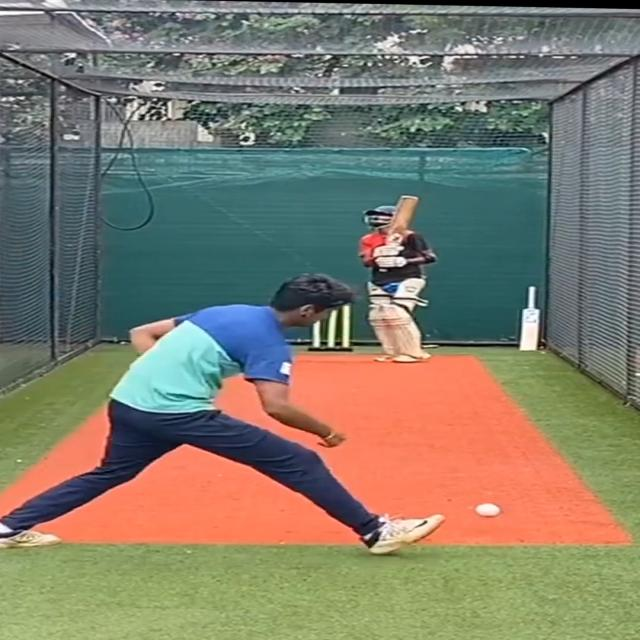ball: (470, 501, 504, 521)
stump: (307, 296, 360, 352)
